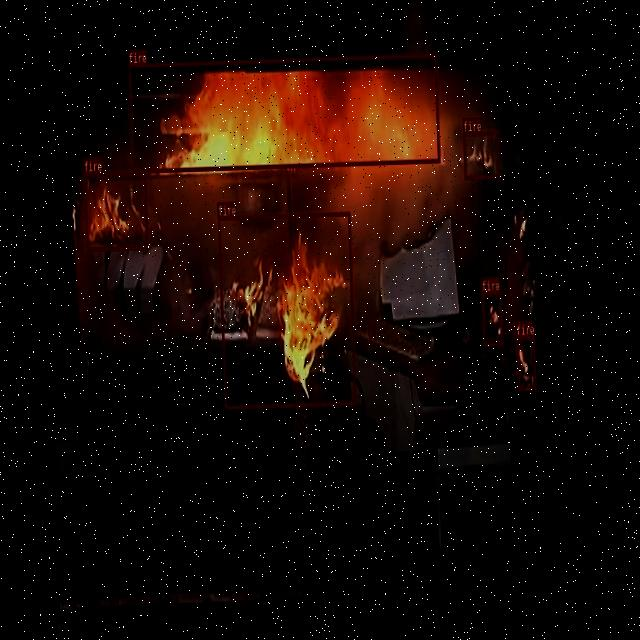fire: (128, 52, 440, 173), (217, 210, 356, 408), (82, 169, 148, 250), (462, 130, 499, 178), (480, 290, 502, 345), (515, 334, 536, 390)
